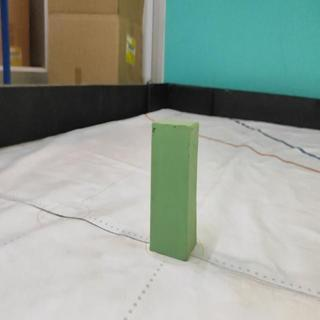greenbox: (149, 117, 201, 262)
